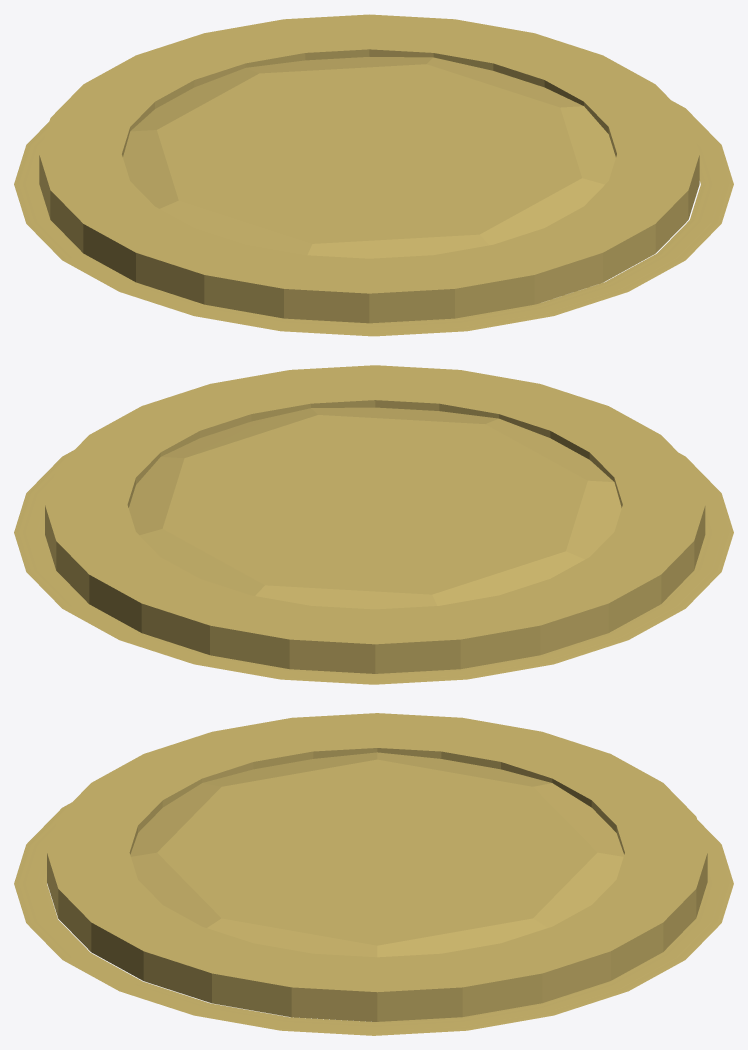
File: coin.glb
The picture shows the model from 3 angles, top to bottom: view 1: azimuth 30°, elevation 25°; view 2: azimuth 150°, elevation 25°; view 3: azimuth 270°, elevation 25°; orthographic projection.
Visible parts, largest first — view 1: Mesh_Mesh_head_geo.001_lambert2SG.001; view 2: Mesh_Mesh_head_geo.001_lambert2SG.001; view 3: Mesh_Mesh_head_geo.001_lambert2SG.001.
Boxes of the visible parts, box(x1,y1,x2,y2) form: Mesh_Mesh_head_geo.001_lambert2SG.001: box(14, 14, 733, 336); Mesh_Mesh_head_geo.001_lambert2SG.001: box(14, 365, 733, 684); Mesh_Mesh_head_geo.001_lambert2SG.001: box(14, 713, 733, 1035).
Size of the model in its own units: 21.8 by 2 by 21.8.
